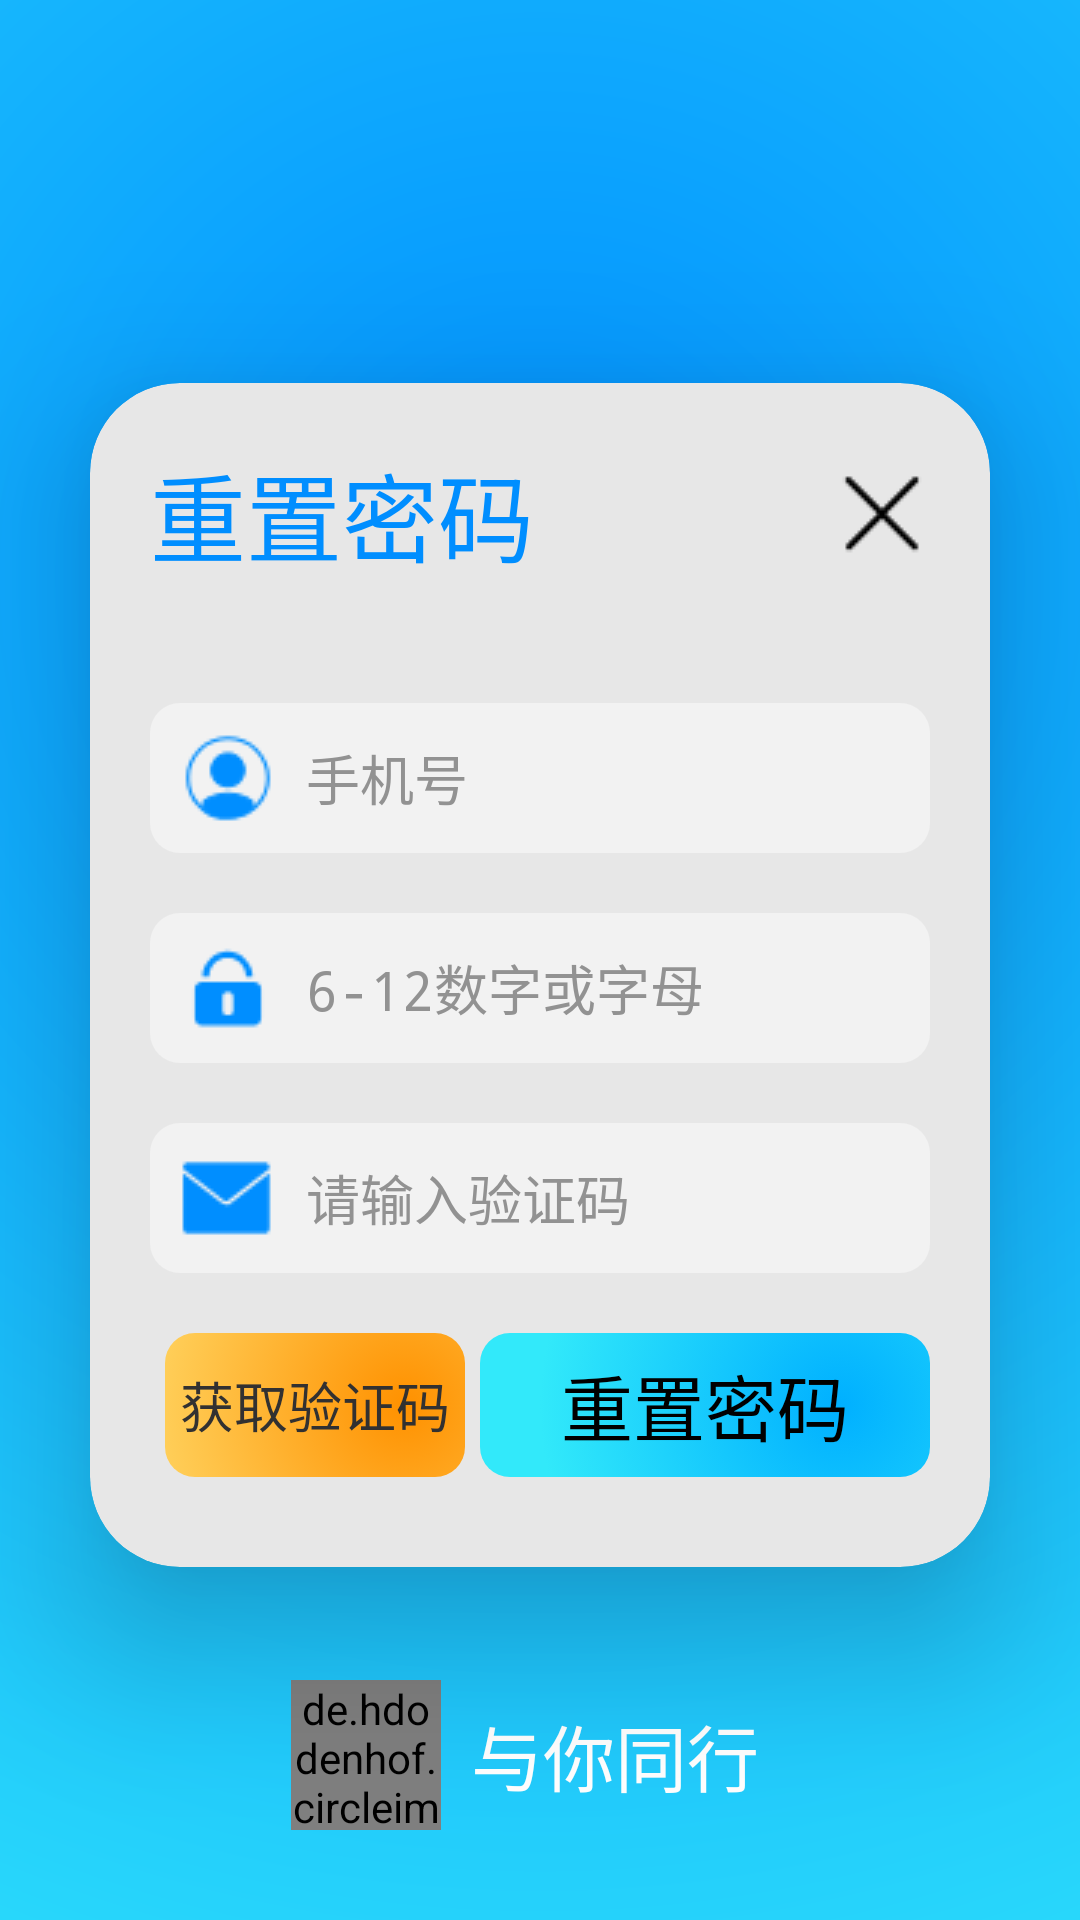

Screen size 1080*1920. Icon name, then its box in pixels as rect(x1, y1, x2, y2):
close: rect(845, 476, 919, 551)
